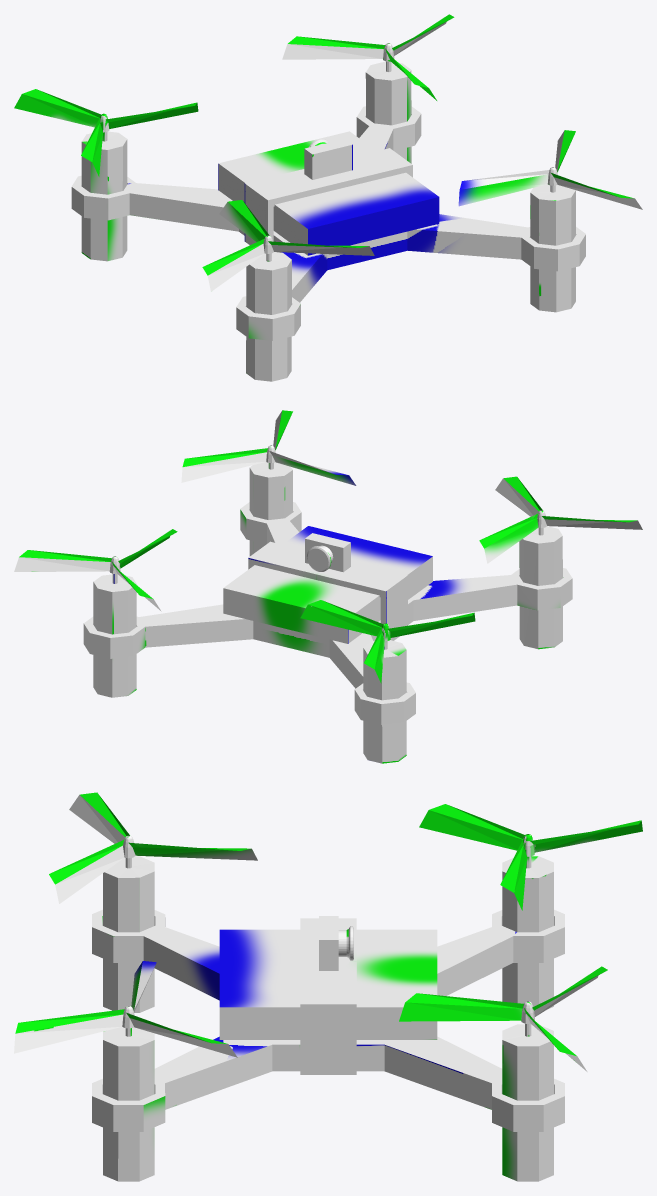
Rendered from drone.obj.
The picture shows the model from 3 angles, top to bottom: view 1: azimuth 30°, elevation 25°; view 2: azimuth 150°, elevation 25°; view 3: azimuth 270°, elevation 25°; orthographic projection. The views are drawn at different scales.
Visible parts, largest first — view 1: Circle; view 2: Circle; view 3: Circle.
Part boxes in pixels (<box>): Circle: <box>14,14,642,381</box>; Circle: <box>14,410,642,763</box>; Circle: <box>14,792,642,1181</box>.
Bounding box in the file's own units: 11.74 × 3.48 × 11.74.
Materials: 1 (1 with a texture image).
